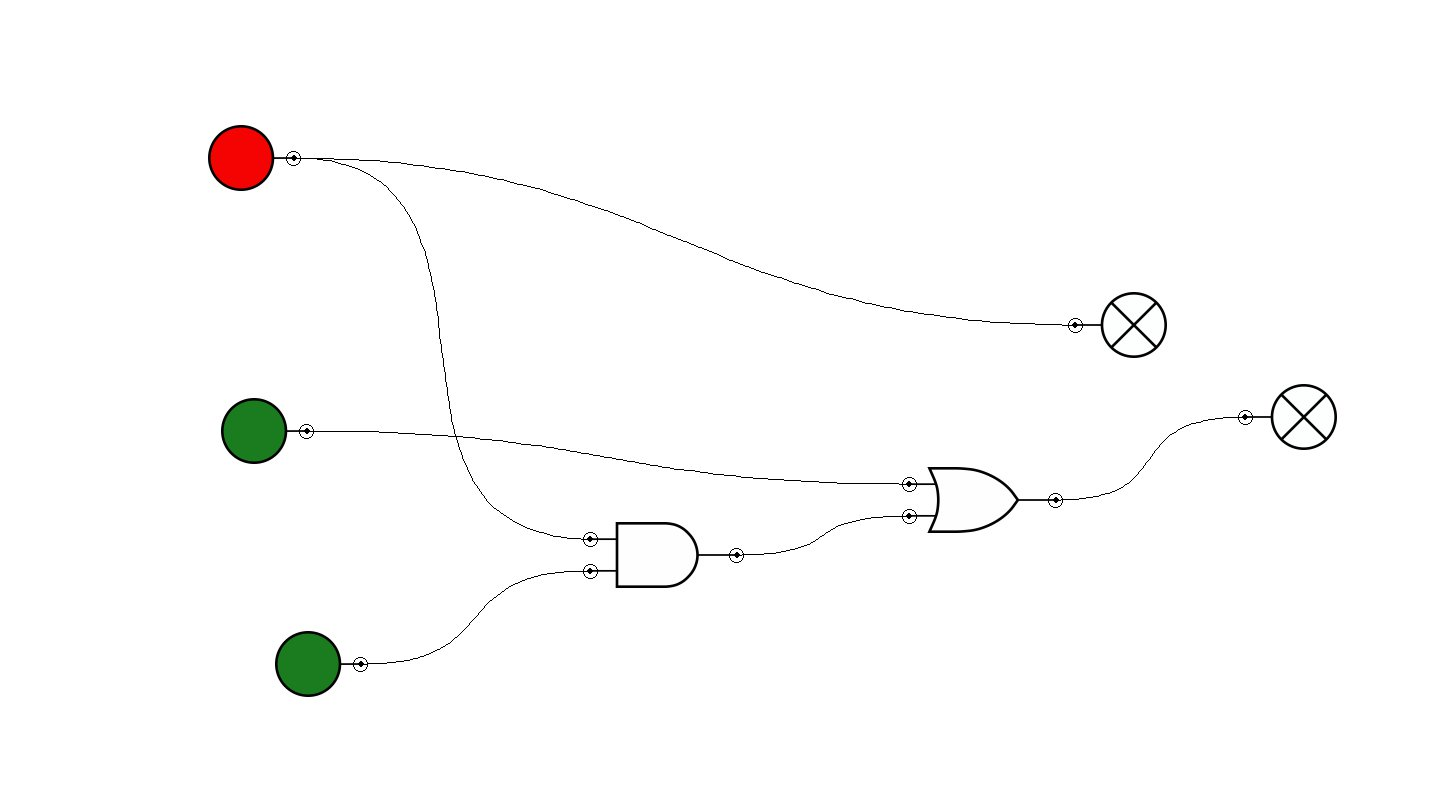and: (583, 522, 744, 588)
bulb: (1238, 384, 1337, 450), (1068, 292, 1167, 358)
or: (902, 467, 1063, 533)
switch_False: (208, 125, 301, 191)
switch_True: (275, 631, 368, 697), (221, 398, 314, 464)
